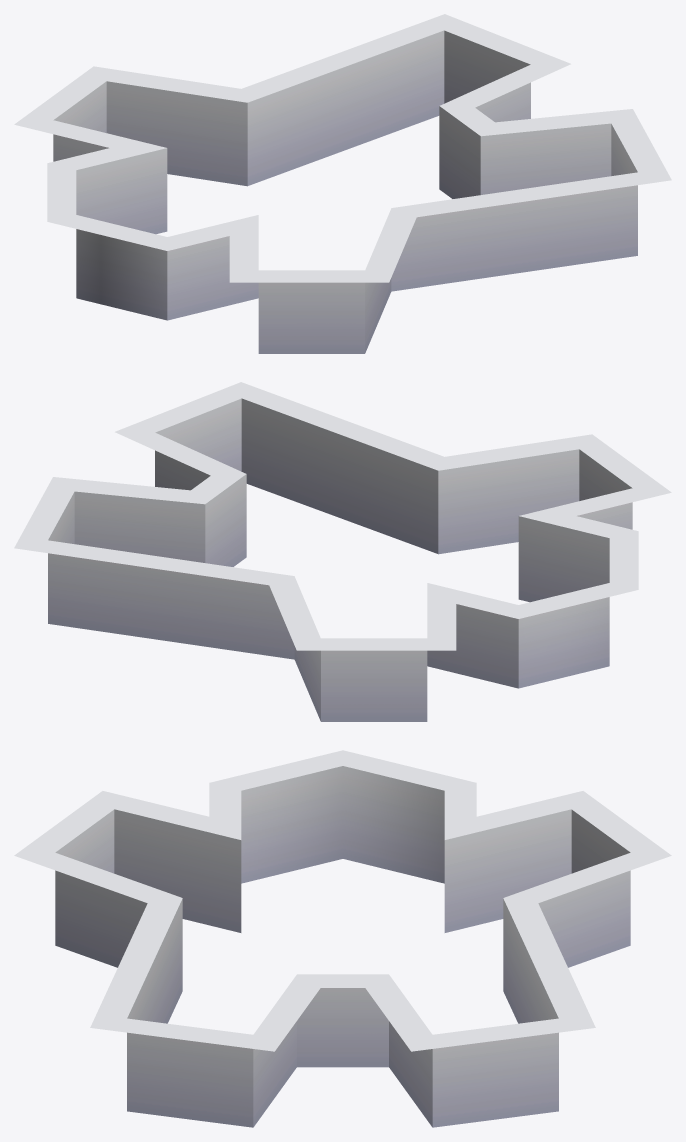
File: ginger-bread-cutter.glb
3 views of the same model, one above another, from view 1: azimuth 30°, elevation 25°; view 2: azimuth 150°, elevation 25°; view 3: azimuth 270°, elevation 25° (orthographic). The views are drawn at different scales.
Visible parts, largest first — view 1: ginger-bread-cutter; view 2: ginger-bread-cutter; view 3: ginger-bread-cutter.
Part boxes in pixels (box(x1,y1,x2,y2)): ginger-bread-cutter: box(14, 14, 671, 353); ginger-bread-cutter: box(14, 382, 671, 721); ginger-bread-cutter: box(14, 750, 671, 1127).
Size of the model in its own units: 0.2919 by 0.042 by 0.2693.
Materials: 1 (1 with a texture image).
